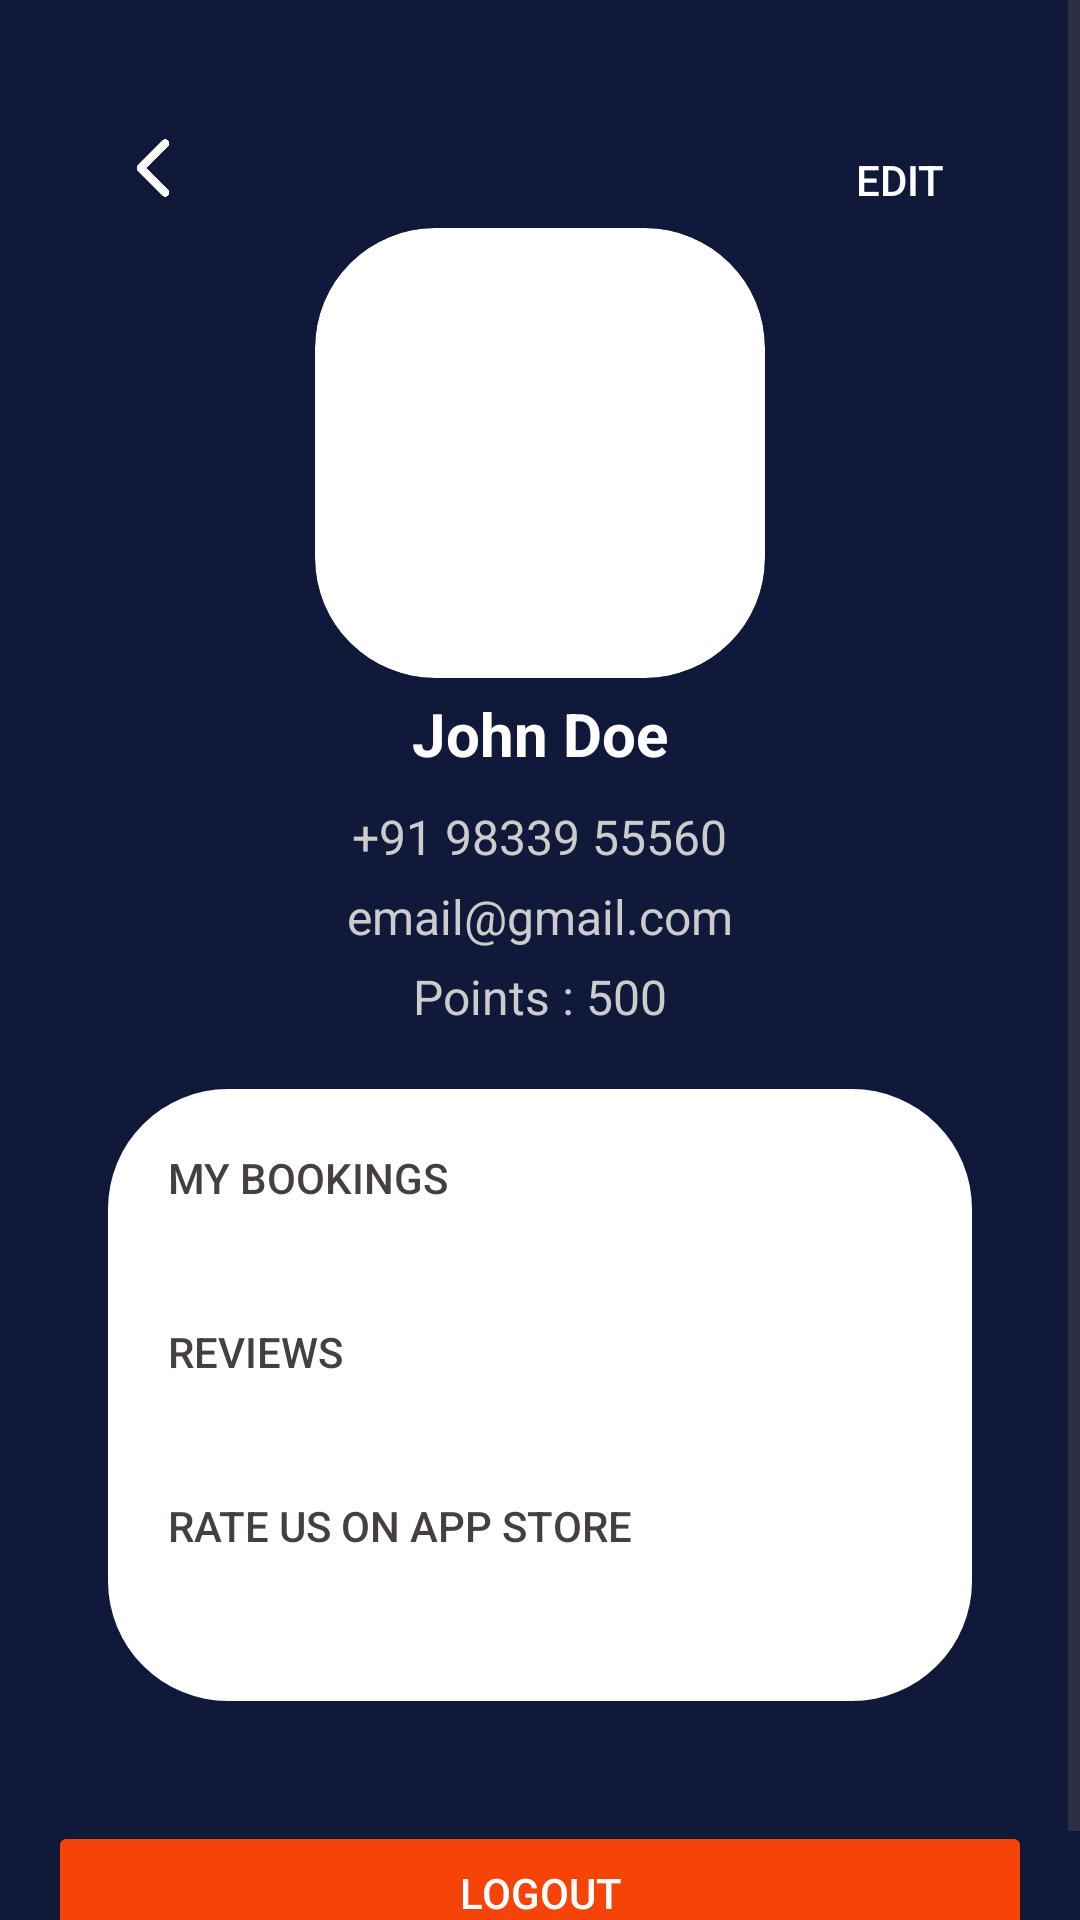

Icons on this 1080px x 1920px Android screen, each with its box as bbox=(x1, y1, x2, y2):
back: bbox=(137, 139, 169, 197)
